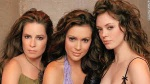female: (96, 5, 138, 58), (16, 16, 53, 67), (60, 14, 96, 66)
